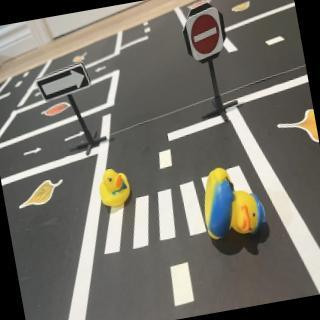duck_regular: (95, 164, 136, 211)
duck_specialty: (197, 160, 273, 247)
road_crosswalk: (91, 156, 268, 259)
road_oneway: (62, 130, 89, 144), (22, 147, 44, 158), (94, 66, 110, 75), (33, 91, 45, 100)
sign_noentry: (186, 5, 228, 62)
sign_oneway_right: (36, 63, 95, 105)
